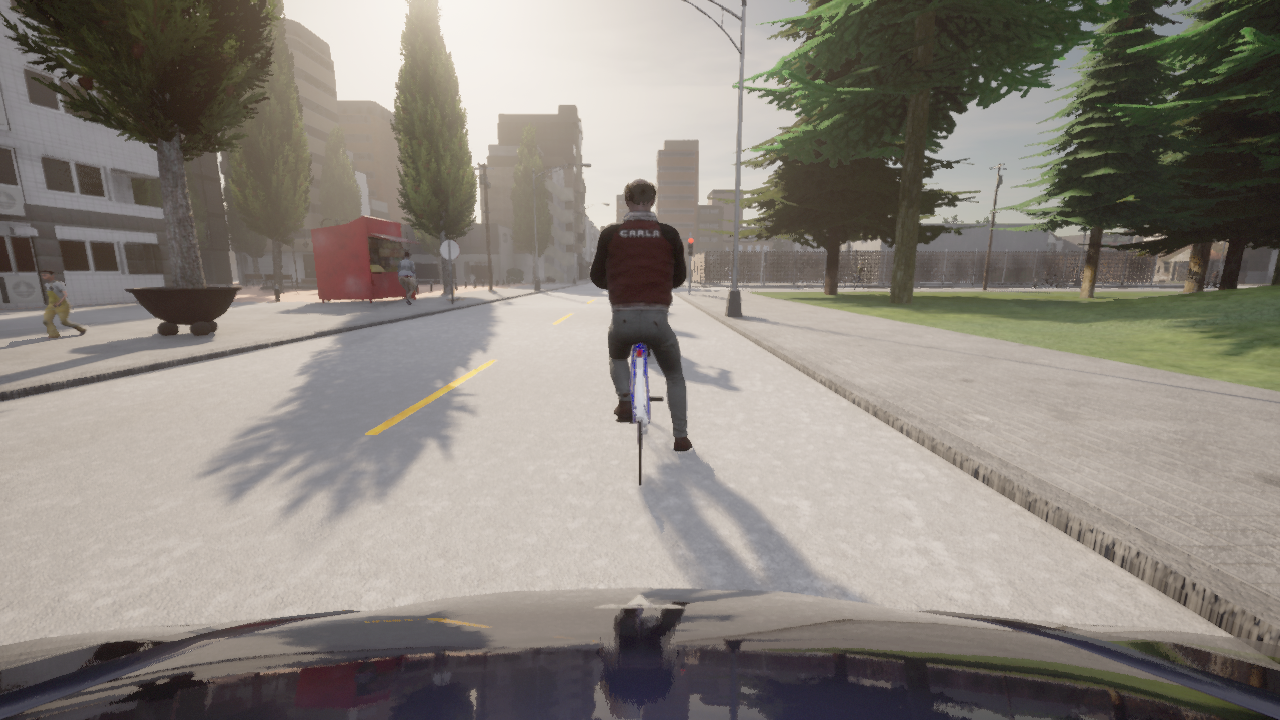cyclist: (0, 588, 1279, 719), (616, 343, 663, 485), (1033, 274, 1066, 289), (747, 270, 772, 280), (1204, 278, 1220, 288), (781, 271, 793, 279), (815, 268, 823, 280), (755, 273, 767, 280), (643, 343, 649, 356), (725, 267, 731, 278), (888, 282, 890, 287), (848, 270, 850, 272), (841, 271, 843, 272)
pedestrian: (40, 269, 87, 339), (397, 251, 416, 305), (853, 262, 866, 290), (737, 269, 740, 288)
